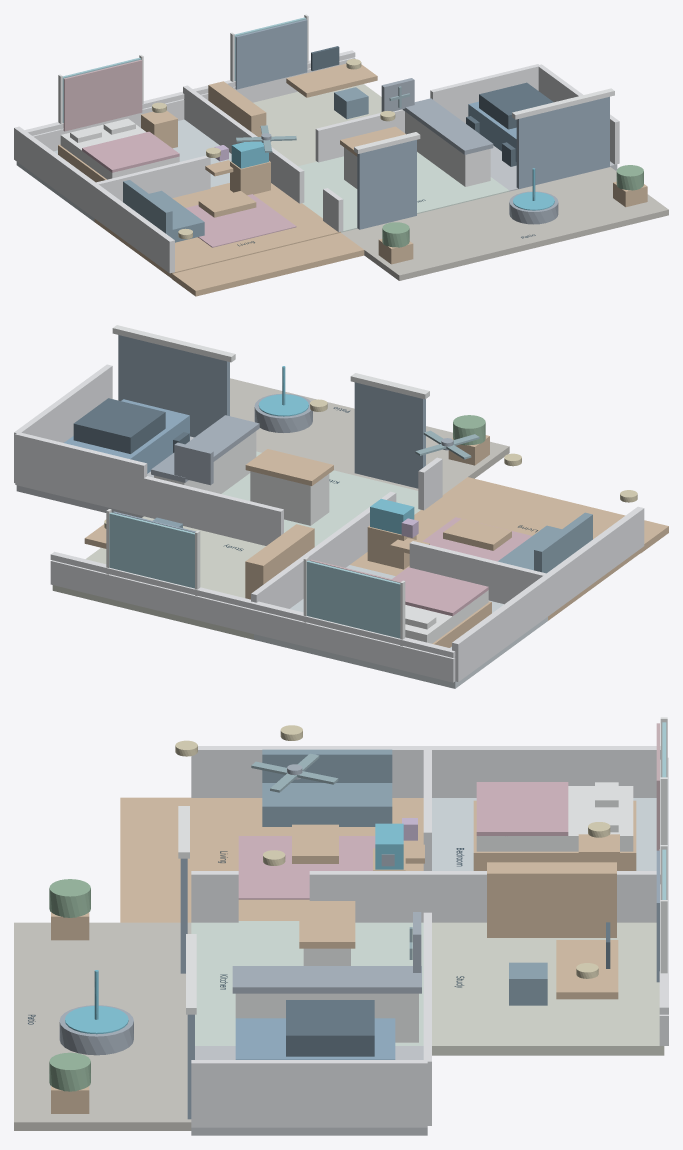
File: demo-home.glb
3 views of the same model, one above another, from view 1: azimuth 30°, elevation 25°; view 2: azimuth 150°, elevation 25°; view 3: azimuth 270°, elevation 25° (orthographic). The views are drawn at different scales.
Visible parts, largest first — view 1: PatioFloor, GarageDoor, LeftWall, LivingFloor, PorchFloor, KitchenFloor, PatioShutter, BedroomCurtain, StudyFloor, StudyBlind, MiddleWall, Rug (+38 smaller); view 2: BackWallLow, LeftWall, GarageDoor, PatioFloor, GarageBack, PatioShutter, CrossWallEast, BedroomWindow, StudyWindow, StudyFloor, PorchFloor, KitchenFloor (+32 smaller); view 3: PatioFloor, StudyFloor, GarageSide, LeftWall, KitchenFloor, MiddleWall, Bookshelf, PorchFloor, LivingFloor, SofaSeat, KitchenCounter, Rug (+33 smaller).
Part boxes in pixels (left/top/right/bottom): PatioFloor: left=341, top=167, right=668, bottom=280; GarageDoor: left=516, top=96, right=609, bottom=188; LeftWall: left=14, top=126, right=174, bottom=273; LivingFloor: left=94, top=183, right=340, bottom=278; PorchFloor: left=172, top=233, right=364, bottom=296; KitchenFloor: left=298, top=152, right=509, bottom=232; PatioShutter: left=357, top=140, right=416, bottom=229; BedroomCurtain: left=63, top=60, right=142, bottom=131; StudyFloor: left=253, top=84, right=381, bottom=165; StudyBlind: left=235, top=19, right=307, bottom=89; MiddleWall: left=183, top=85, right=304, bottom=203; Rug: left=186, top=194, right=296, bottom=247; BackWallLow: left=50, top=560, right=455, bottom=682; LeftWall: left=452, top=506, right=644, bottom=681; GarageDoor: left=118, top=335, right=229, bottom=437; PatioFloor: left=230, top=378, right=509, bottom=494; GarageBack: left=15, top=432, right=147, bottom=516; PatioShutter: left=354, top=382, right=425, bottom=488; CrossWallEast: left=144, top=476, right=283, bottom=545; BedroomWindow: left=306, top=560, right=400, bottom=638; StudyWindow: left=109, top=512, right=194, bottom=588; StudyFloor: left=52, top=516, right=265, bottom=639; PorchFloor: left=442, top=477, right=668, bottom=552; KitchenFloor: left=222, top=451, right=420, bottom=546; PatioFloor: left=14, top=922, right=191, bottom=1130; StudyFloor: left=432, top=922, right=664, bottom=1055; GarageSide: left=191, top=1060, right=427, bottom=1127; LeftWall: left=191, top=746, right=660, bottom=797; KitchenFloor: left=191, top=921, right=423, bottom=1045; MiddleWall: left=309, top=871, right=660, bottom=922; Bookshelf: left=487, top=862, right=616, bottom=937; PorchFloor: left=120, top=797, right=191, bottom=922; LivingFloor: left=191, top=798, right=423, bottom=920; SofaSeat: left=262, top=783, right=392, bottom=826; KitchenCounter: left=232, top=966, right=421, bottom=993; Rug: left=238, top=836, right=375, bottom=899.
Size of the model in its own units: 13.35 by 2.51 by 11.08.
27 materials, 6 textured.
